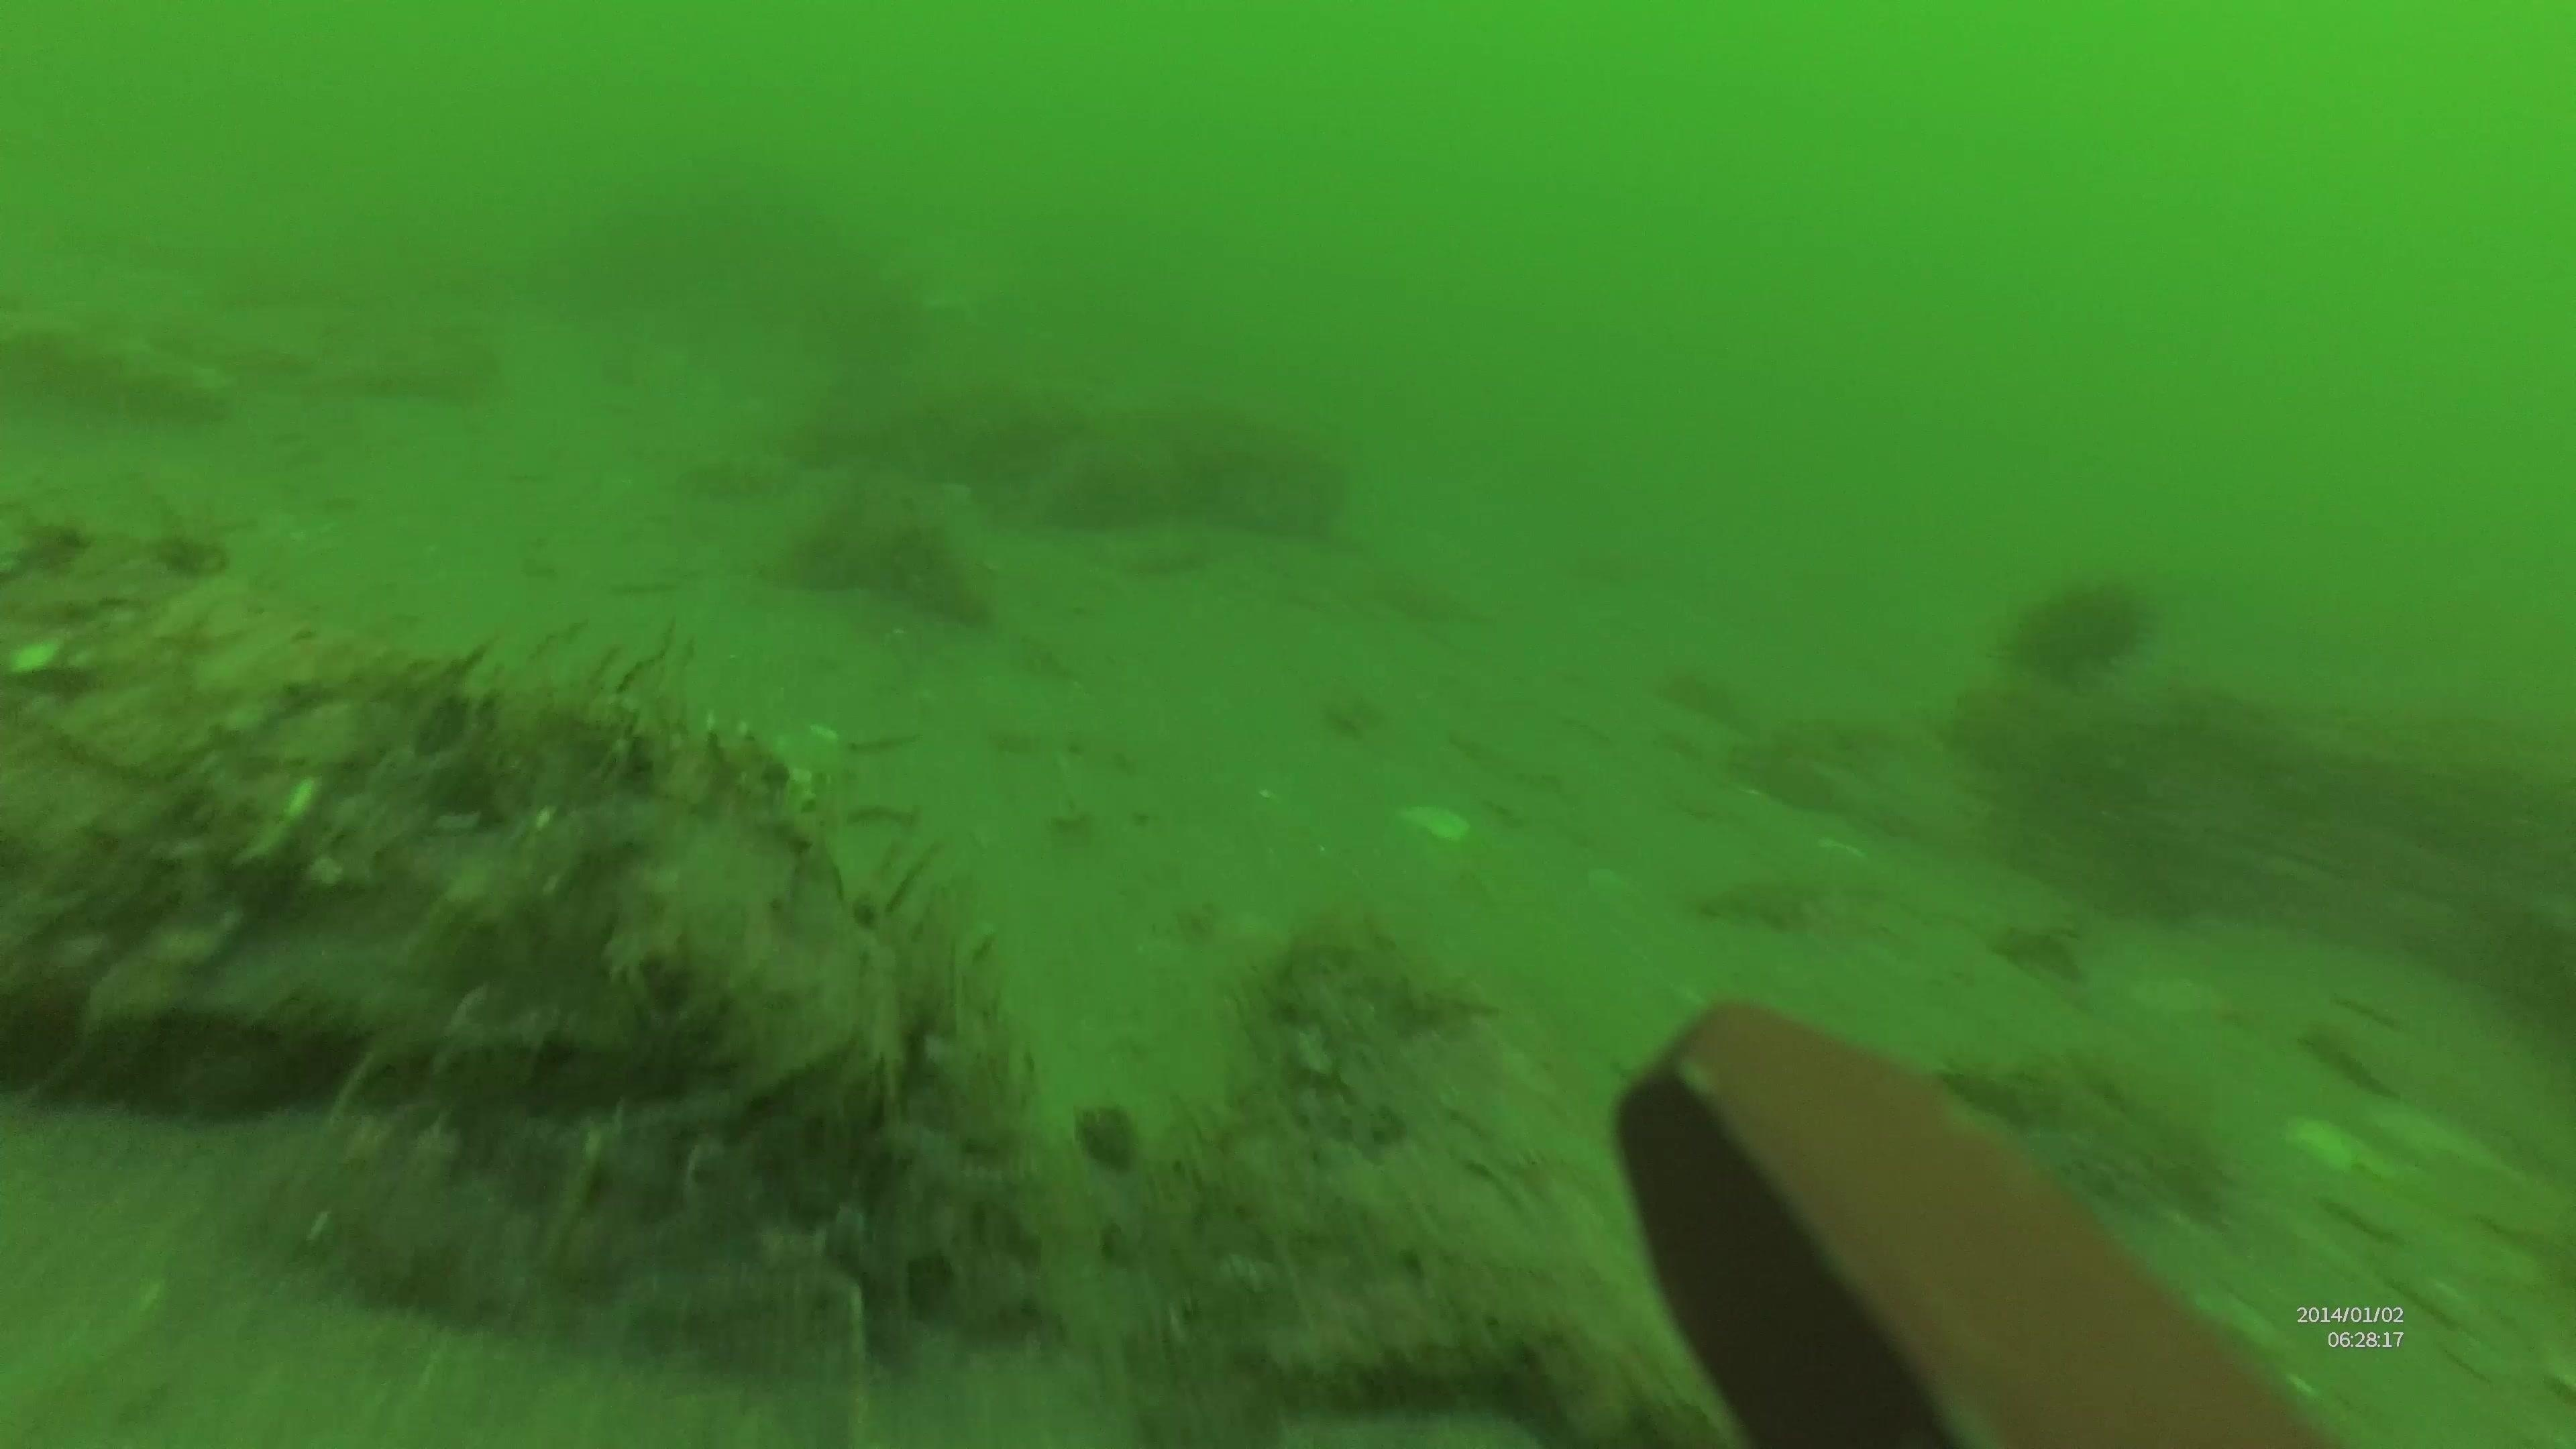echinus: (1997, 566, 2157, 688)
